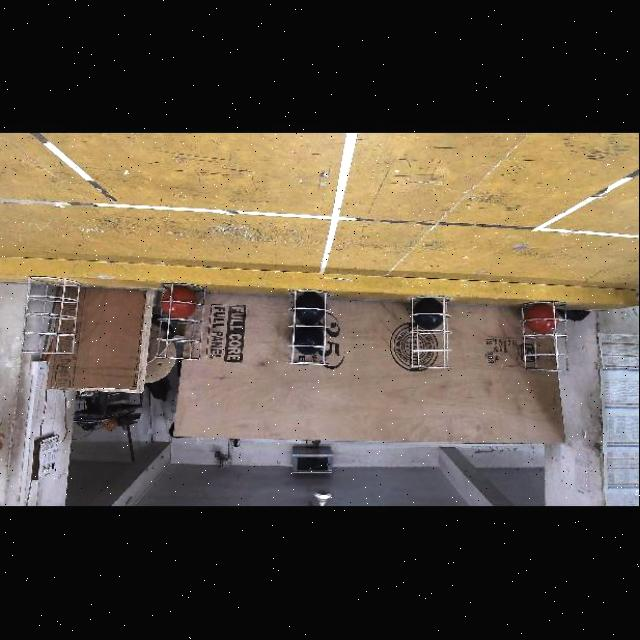P: (294, 325, 326, 355), (296, 295, 326, 325), (413, 300, 443, 328)
R: (162, 286, 195, 320), (528, 306, 556, 334)
S: (22, 276, 82, 358), (516, 298, 574, 376), (154, 282, 206, 366), (404, 292, 452, 374), (288, 291, 332, 371)
